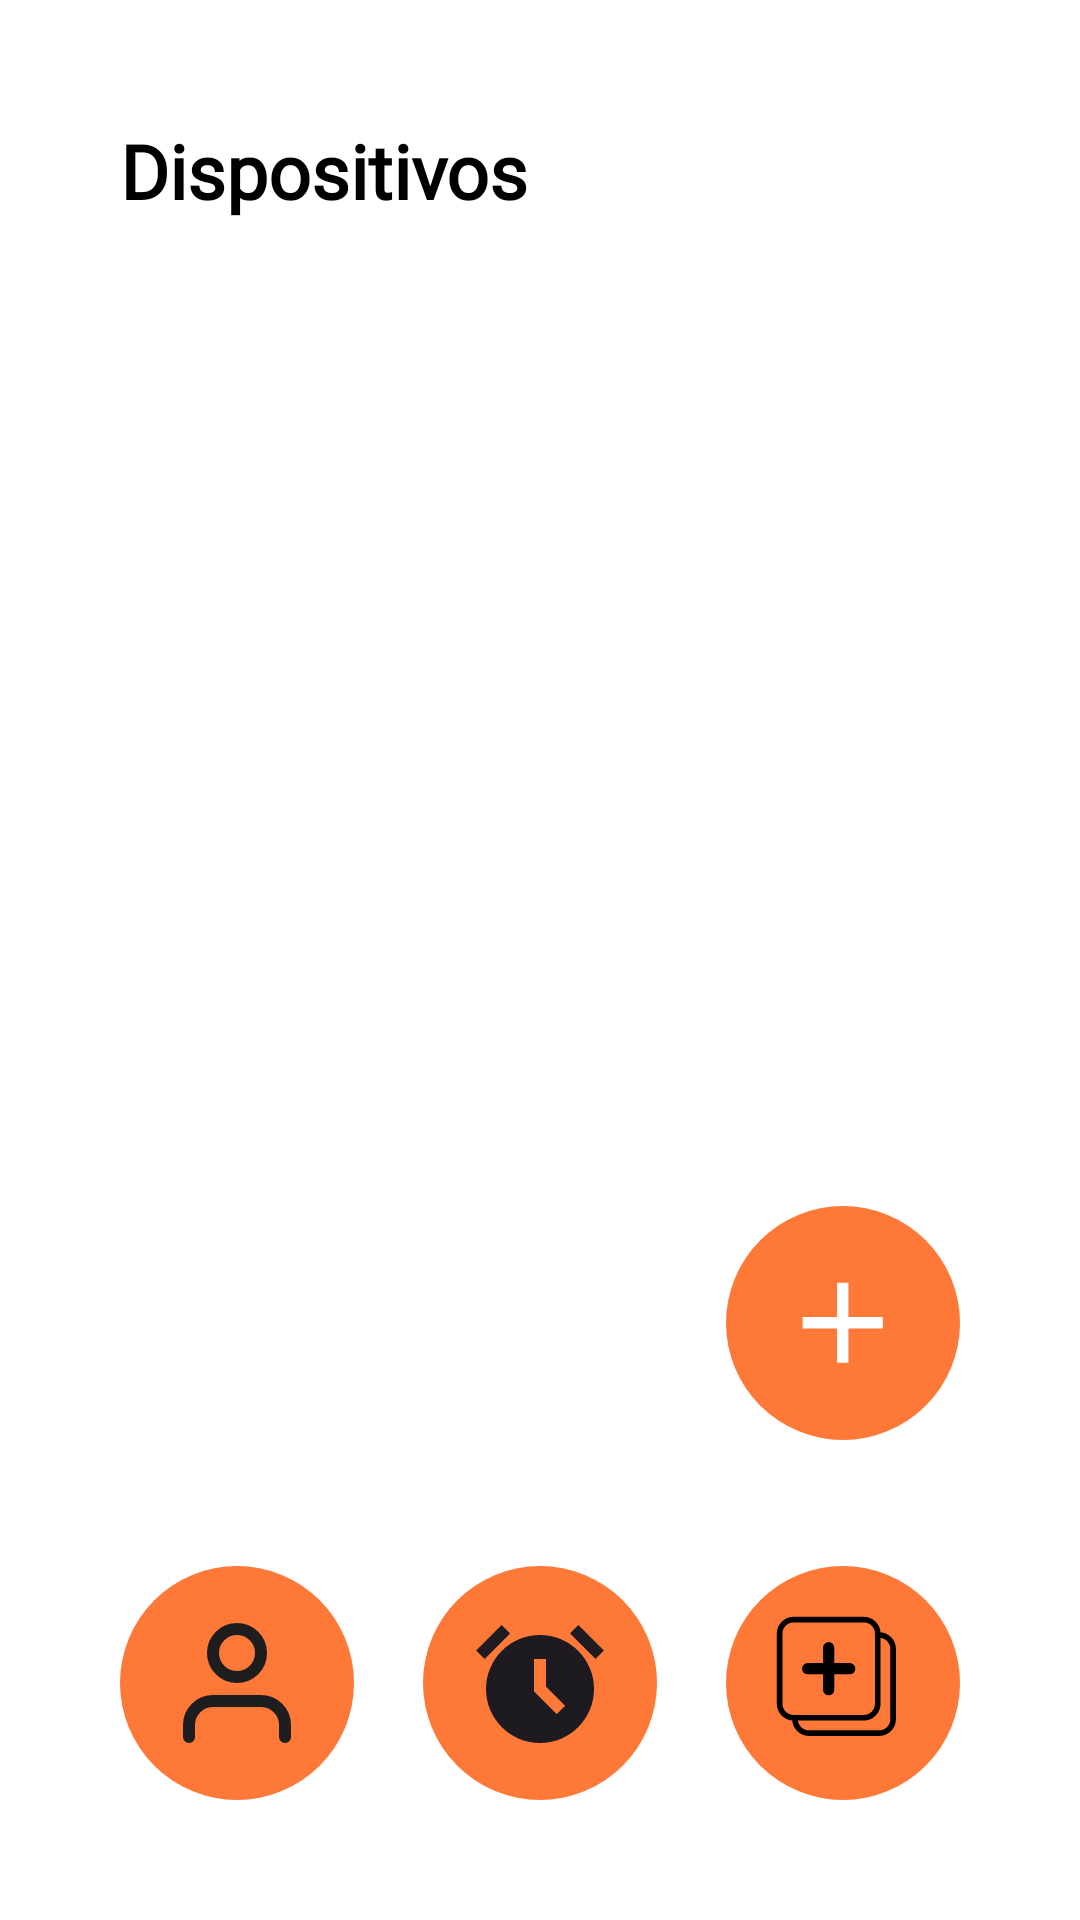

Point at icon controls on the screen. Image size 1080×1920, points as [x,y].
Alarmas: [540,1683]
Añadir dispositivo: [843,1323]
Usuario: [237,1683]
